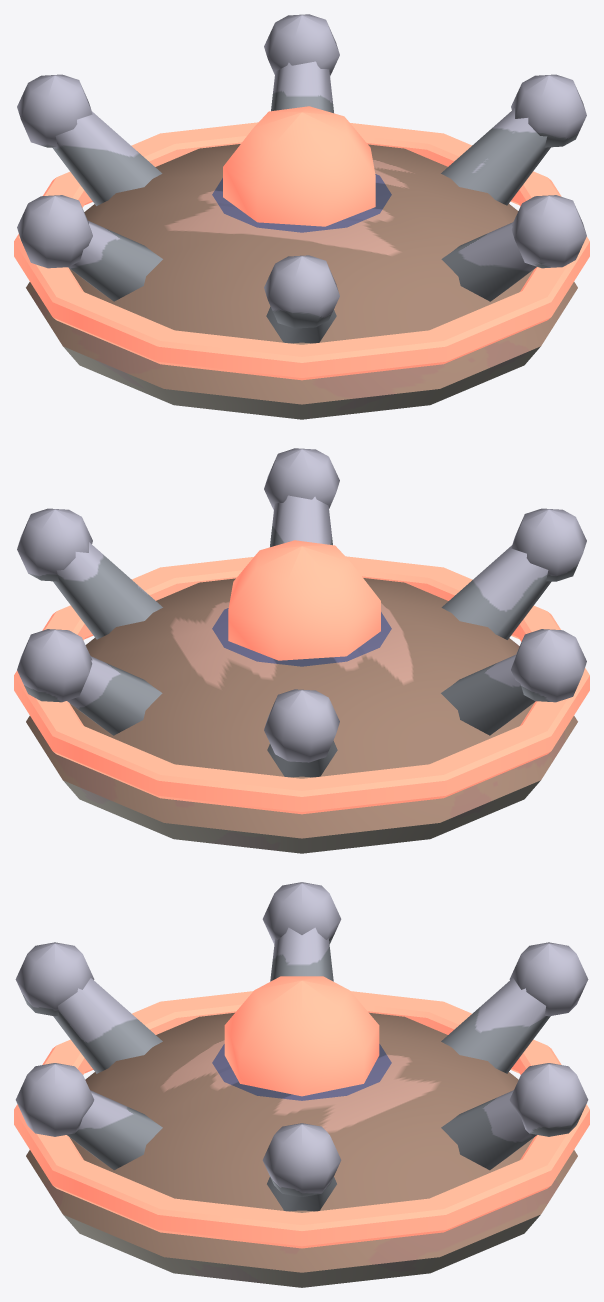
Rendered from R4D_ExplosiveTrap_LOD1.glb.
3 renders of one model, top to bottom at view 1: azimuth 30°, elevation 25°; view 2: azimuth 150°, elevation 25°; view 3: azimuth 270°, elevation 25°, orthographic.
Parts seen in each view (by area): view 1: R4D_ExplosiveTrap_LOD1; view 2: R4D_ExplosiveTrap_LOD1; view 3: R4D_ExplosiveTrap_LOD1.
Boxes of the visible parts, bbox=[...] form: R4D_ExplosiveTrap_LOD1: bbox=[14, 14, 589, 419]; R4D_ExplosiveTrap_LOD1: bbox=[14, 448, 589, 853]; R4D_ExplosiveTrap_LOD1: bbox=[14, 882, 589, 1287].
Bounding box in the file's own units: 0.5054 × 0.1708 × 0.4484.
Materials: 5 (4 with a texture image).
